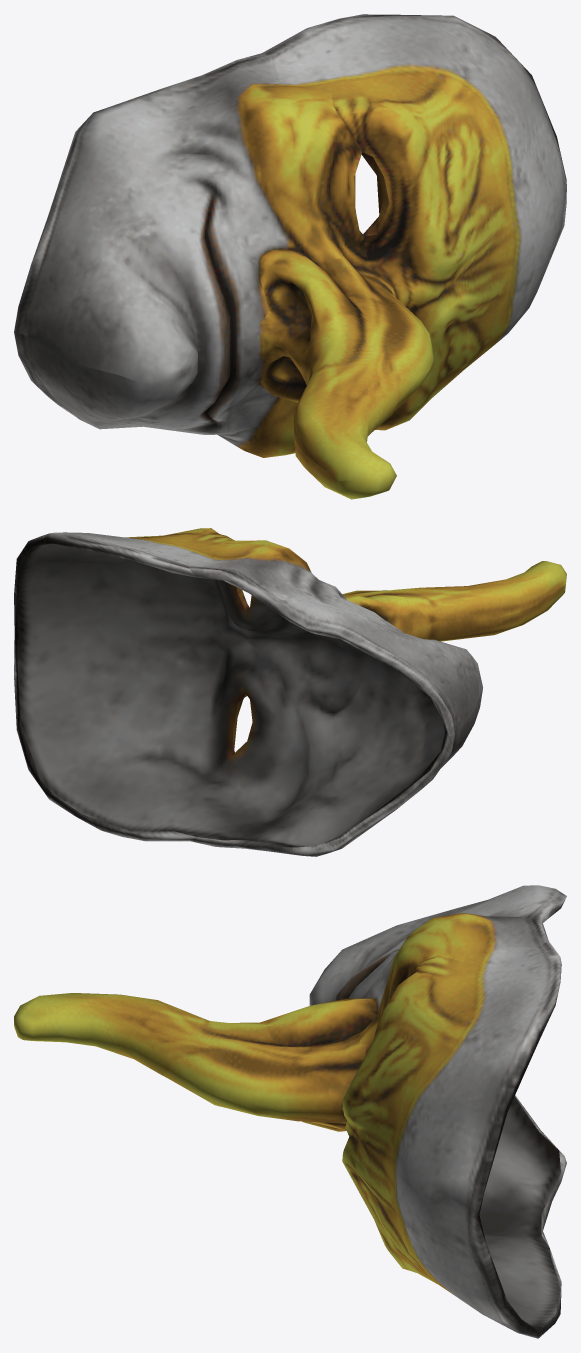
Rendered from M_VenetianMask.fbx.
3 renders of one model, top to bottom at view 1: azimuth 30°, elevation 25°; view 2: azimuth 150°, elevation 25°; view 3: azimuth 270°, elevation 25°, orthographic. The views are drawn at different scales.
Visible parts, largest first — view 1: Mask7; view 2: Mask7; view 3: Mask7.
Part boxes in pixels (box(x1,y1,x2,y2)): Mask7: box(14, 14, 566, 499); Mask7: box(14, 528, 566, 856); Mask7: box(14, 885, 566, 1338).
Bounding box in the file's own units: 0.167 × 0.1058 × 0.1568.
